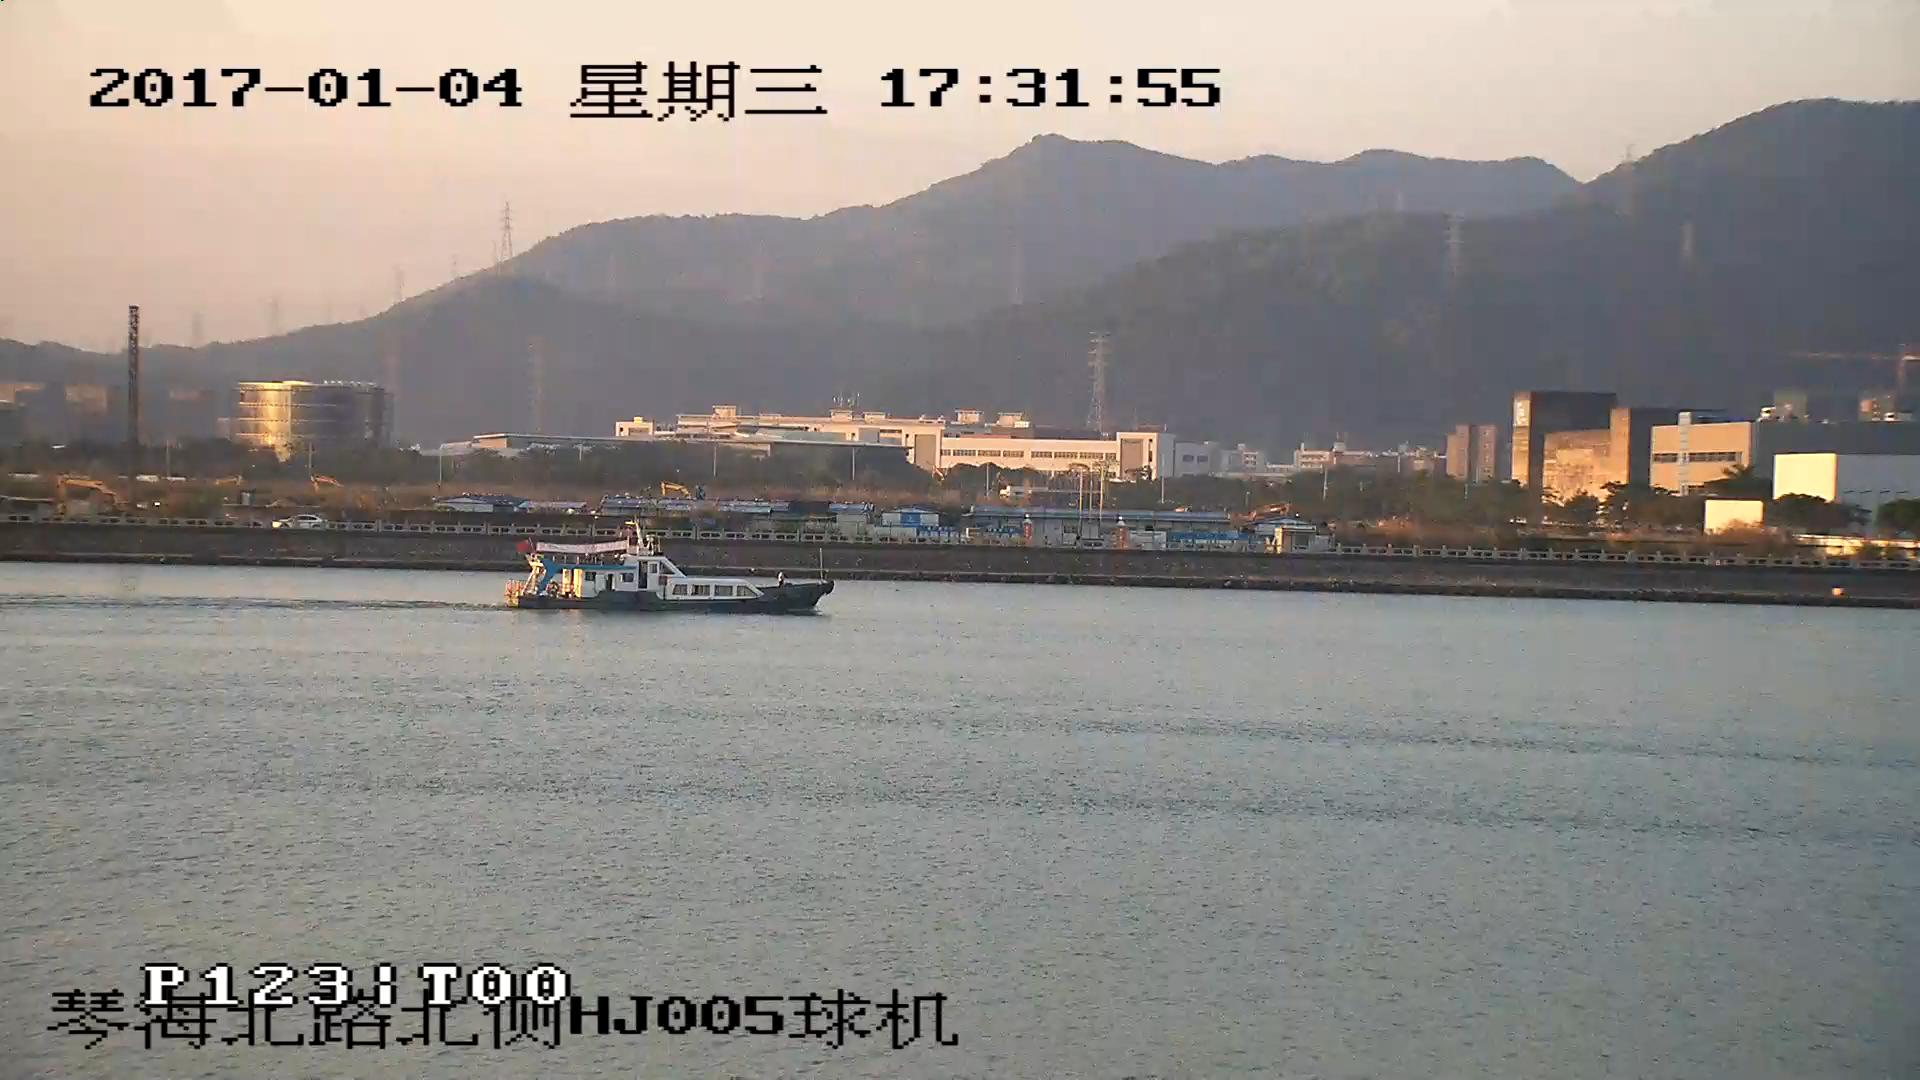fishing boat: (505, 530, 836, 618)
